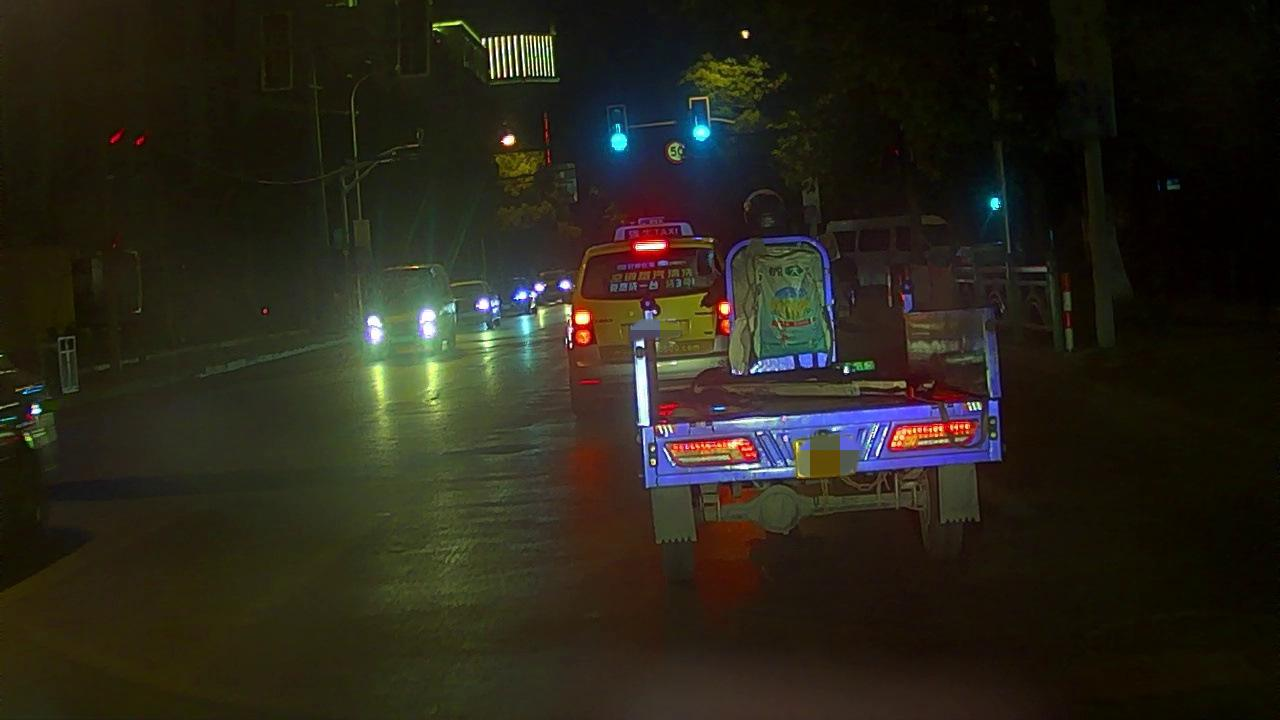traffic_light: (609, 106, 627, 153), (691, 98, 709, 144)
